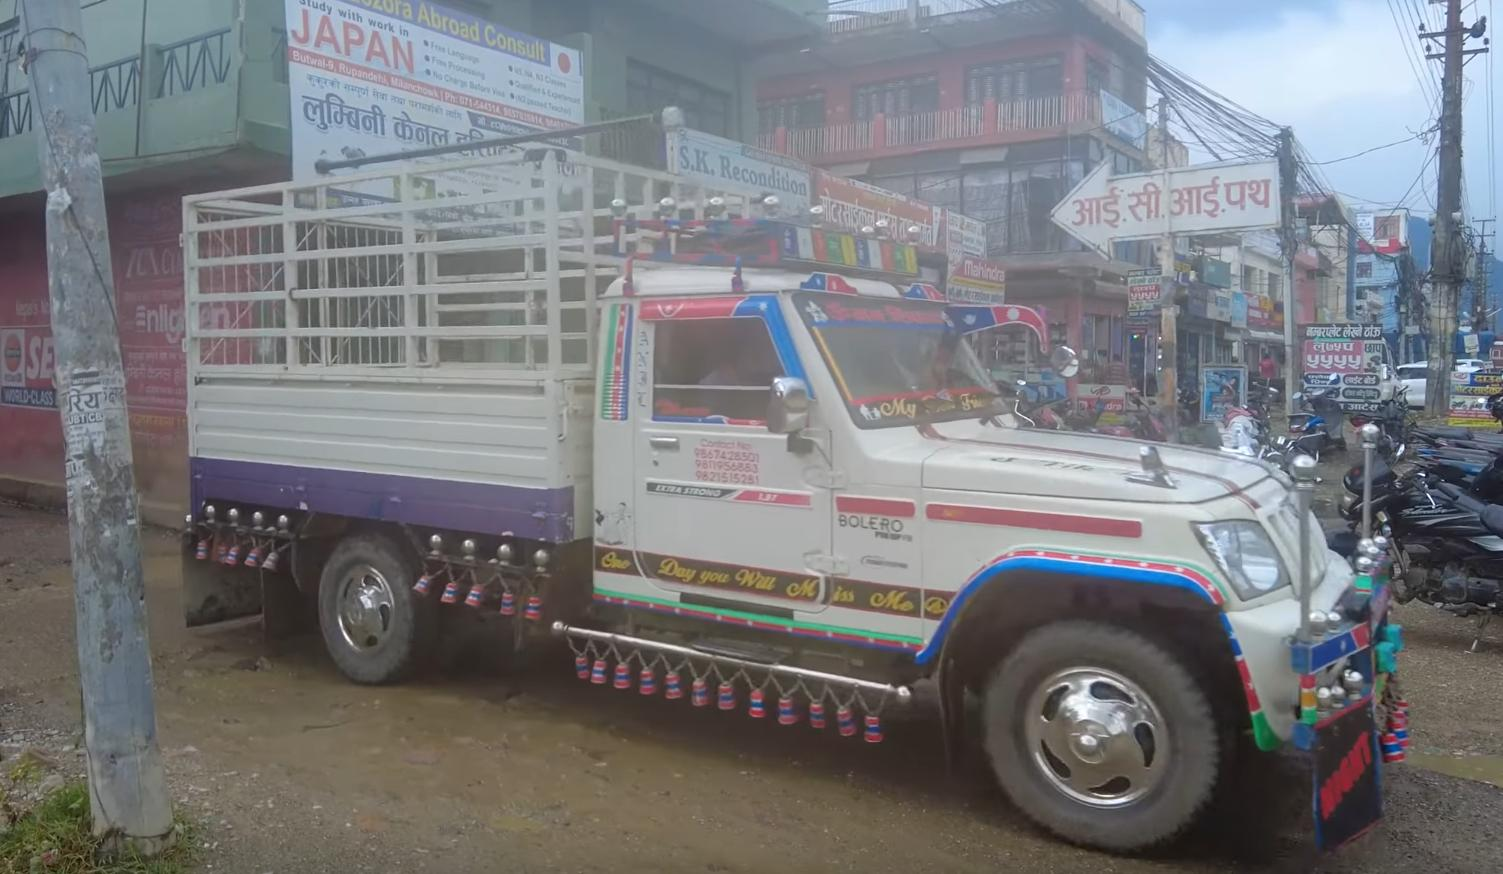bike: (1334, 405, 1503, 648)
transport_vehicle: (165, 153, 1410, 874)
